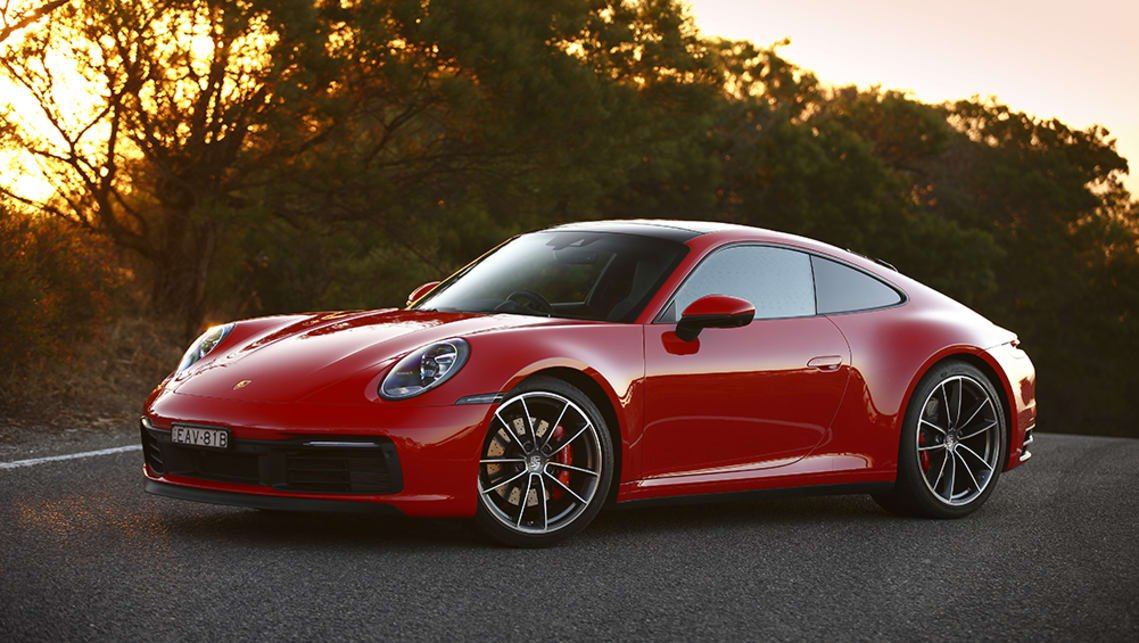car: (131, 208, 1042, 521)
